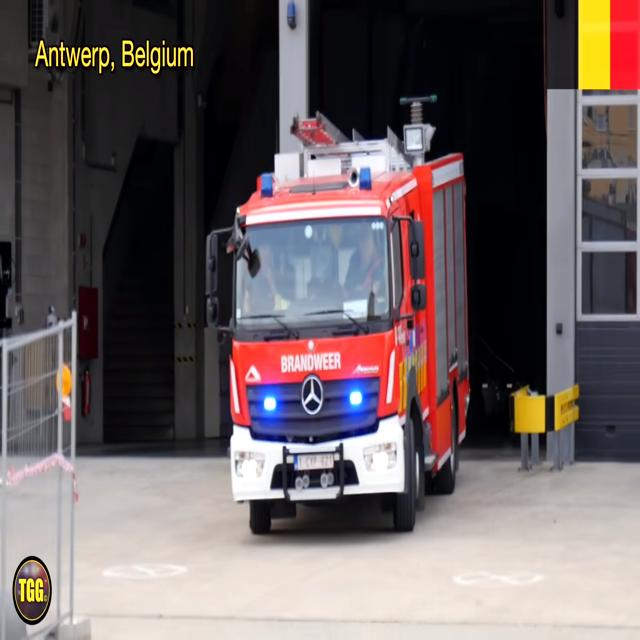emergency-vehicles: (192, 101, 492, 544)
